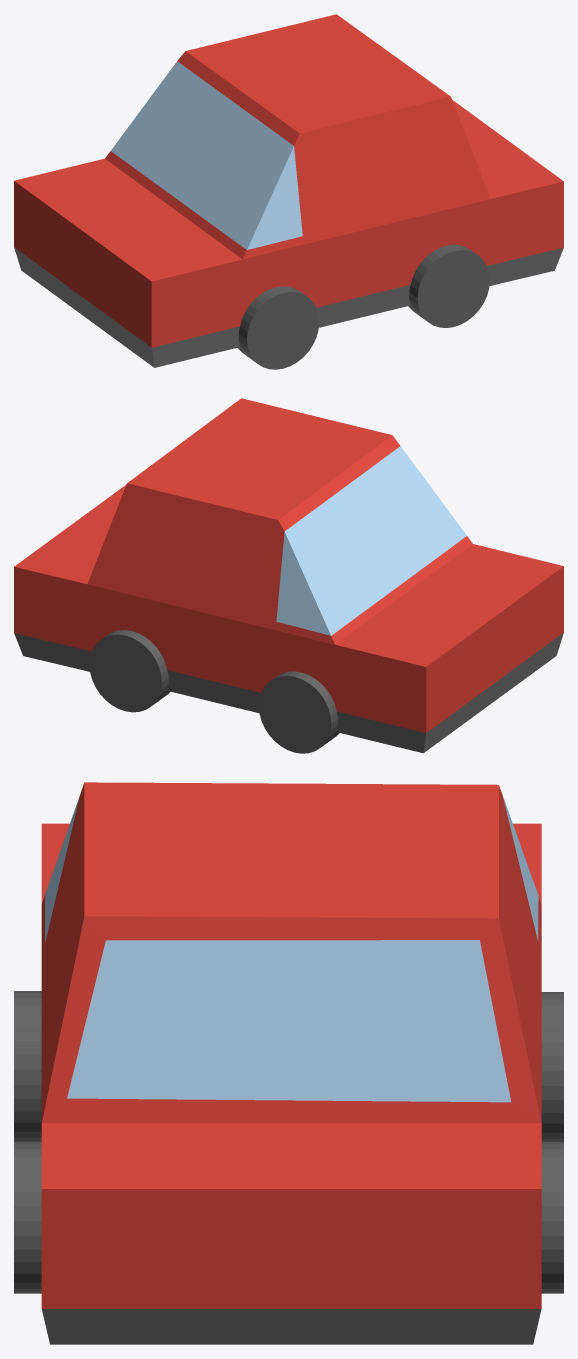
The model's file is car1 (1).fbx.
The picture shows the model from 3 angles, top to bottom: view 1: azimuth 30°, elevation 25°; view 2: azimuth 150°, elevation 25°; view 3: azimuth 270°, elevation 25°; orthographic projection. The views are drawn at different scales.
Parts seen in each view (by area): view 1: Cube, Circle; view 2: Cube, Circle; view 3: Cube, Circle.
Boxes of the visible parts, x1,y1,x2,y2 form: Cube: (14, 14, 563, 367); Circle: (237, 244, 489, 369); Cube: (14, 398, 563, 753); Circle: (89, 630, 339, 753); Cube: (41, 782, 541, 1344); Circle: (14, 991, 563, 1293).
Size of the model in its own units: 623 by 306 by 397.
